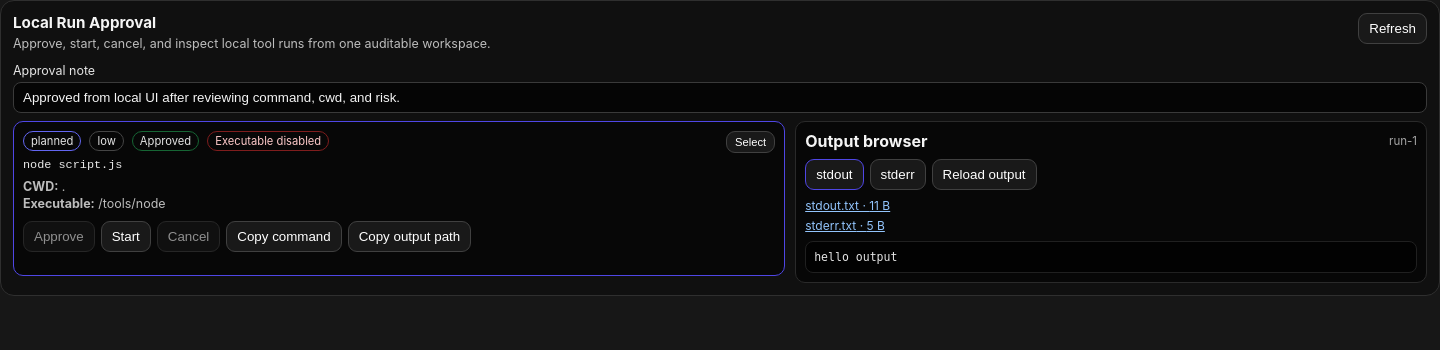
Test: LocalRunApprovalPanel › reports clipboard rejection without breaking the run controls
Expected: the text "node script.js" is shown, [23,158,122,172]
Step 1. Click the button "Copy command" → (284, 236), box [226,220,342,252]
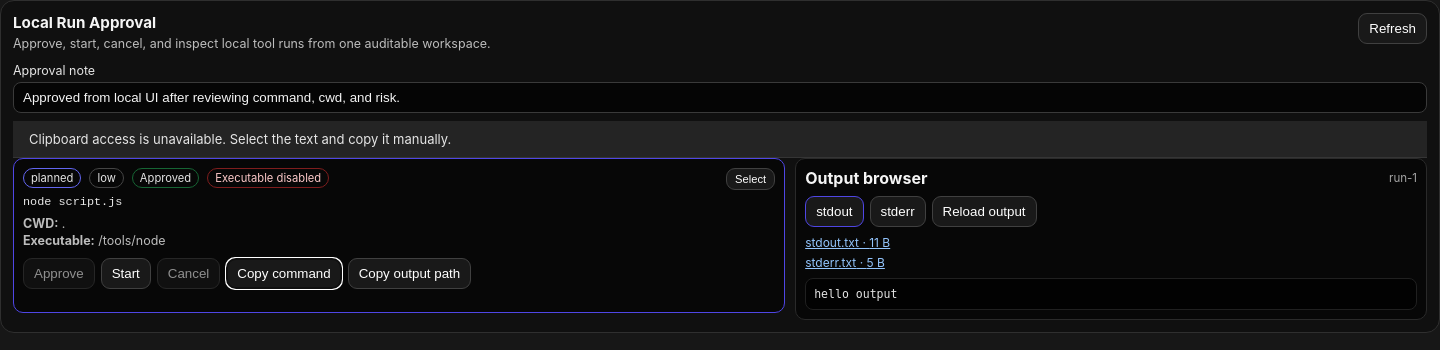
Expected: the button "Start" is enabled, [101,258,151,288]
Result: the message shows "Clipboard access is unavailable" at [29,131,451,147]
